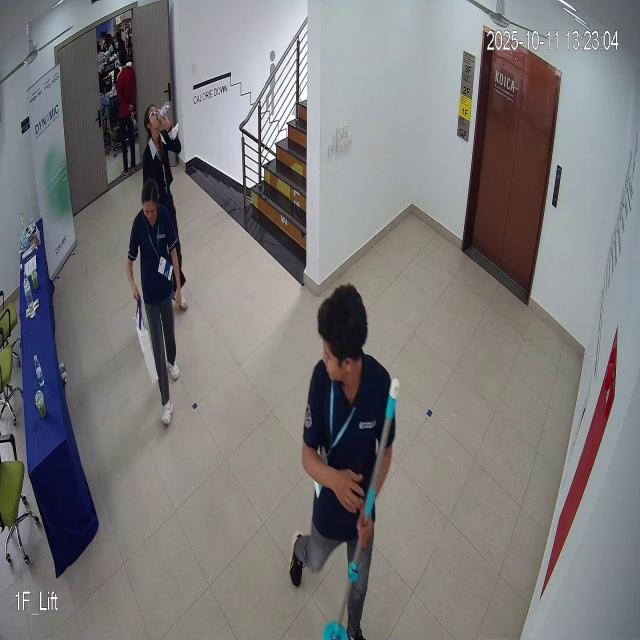face: (136, 170, 162, 230)
